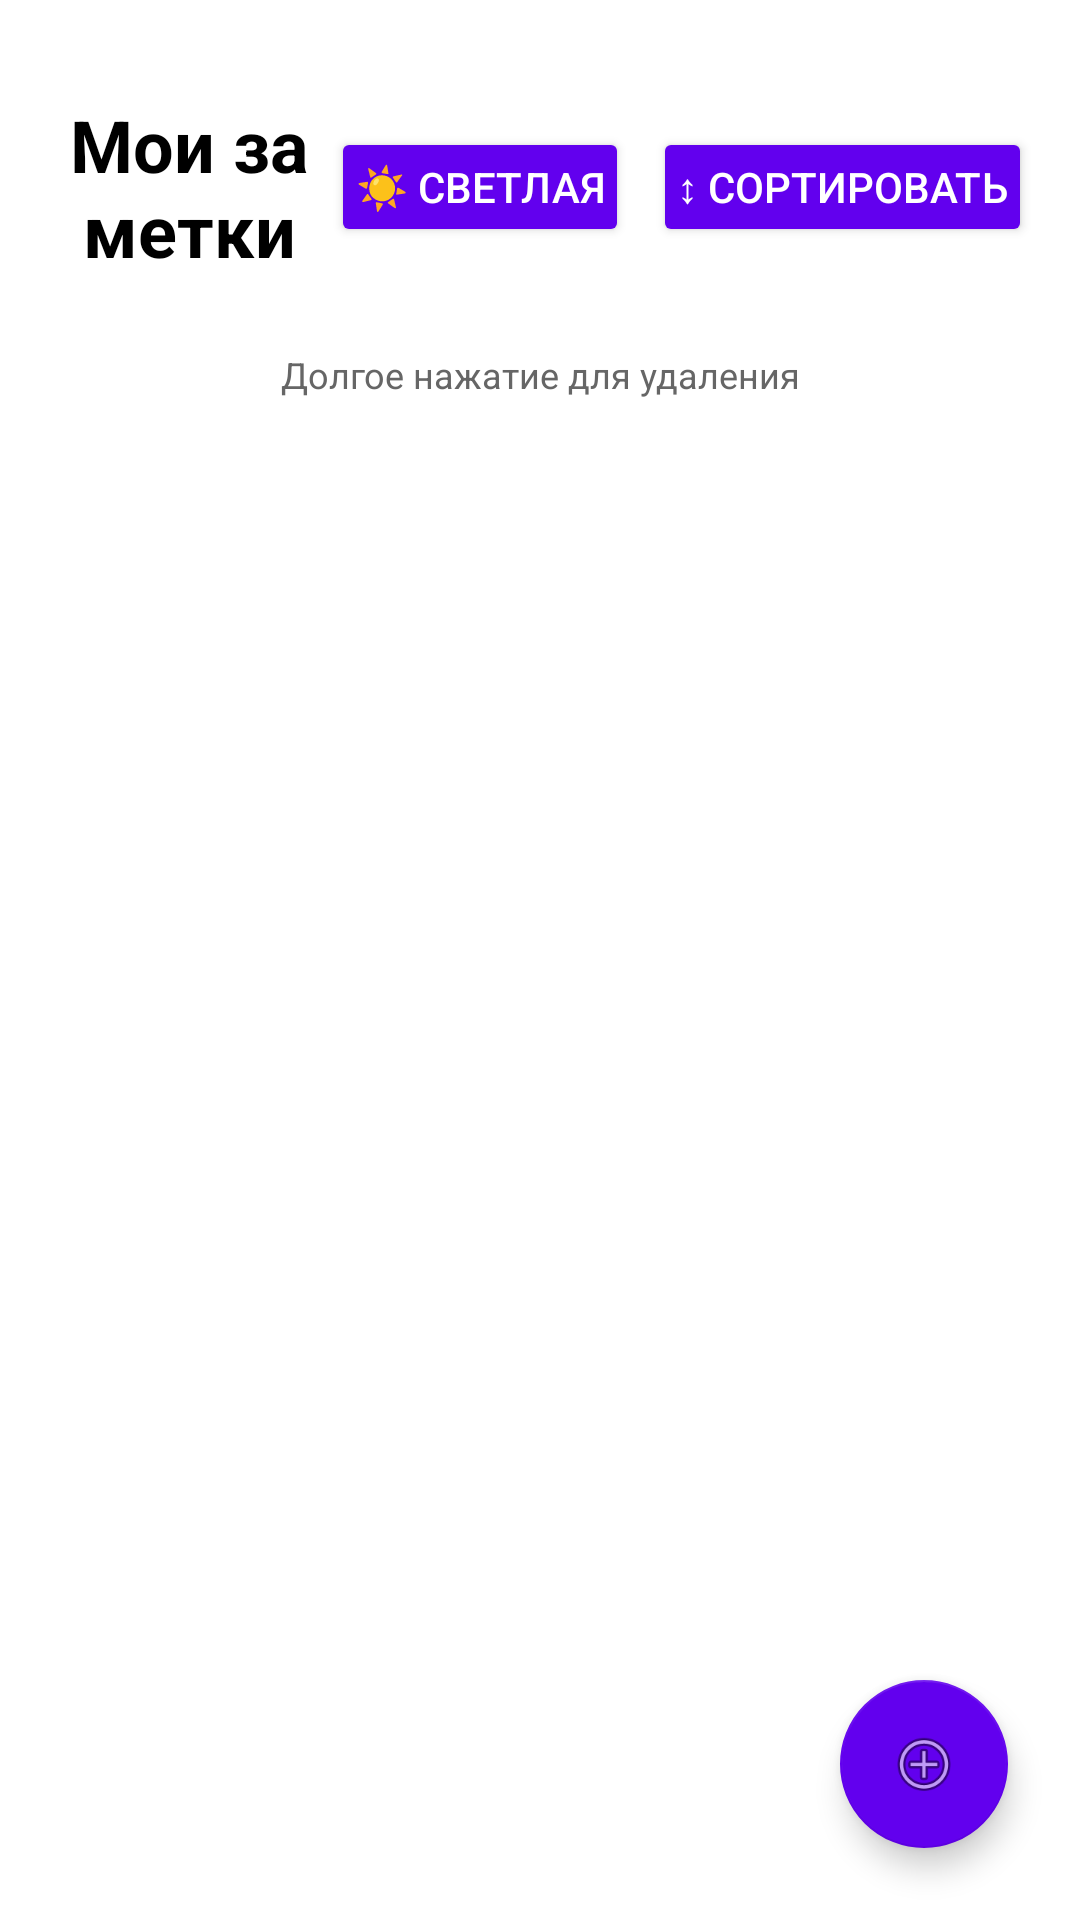

Icon click points for this 1080px×1920px phone screenshot, format (x=x, y=y):
Добавить заметку: (x=924, y=1764)
